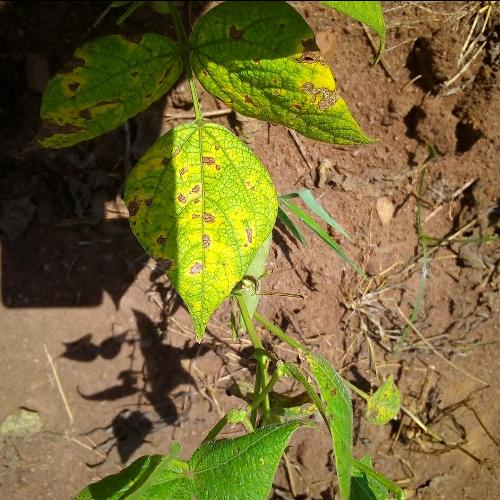mozaik: (116, 114, 274, 327), (273, 0, 378, 163)
sehat: (211, 444, 258, 489)
